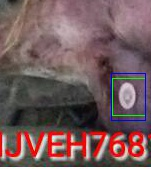text: (112, 78, 145, 115)
